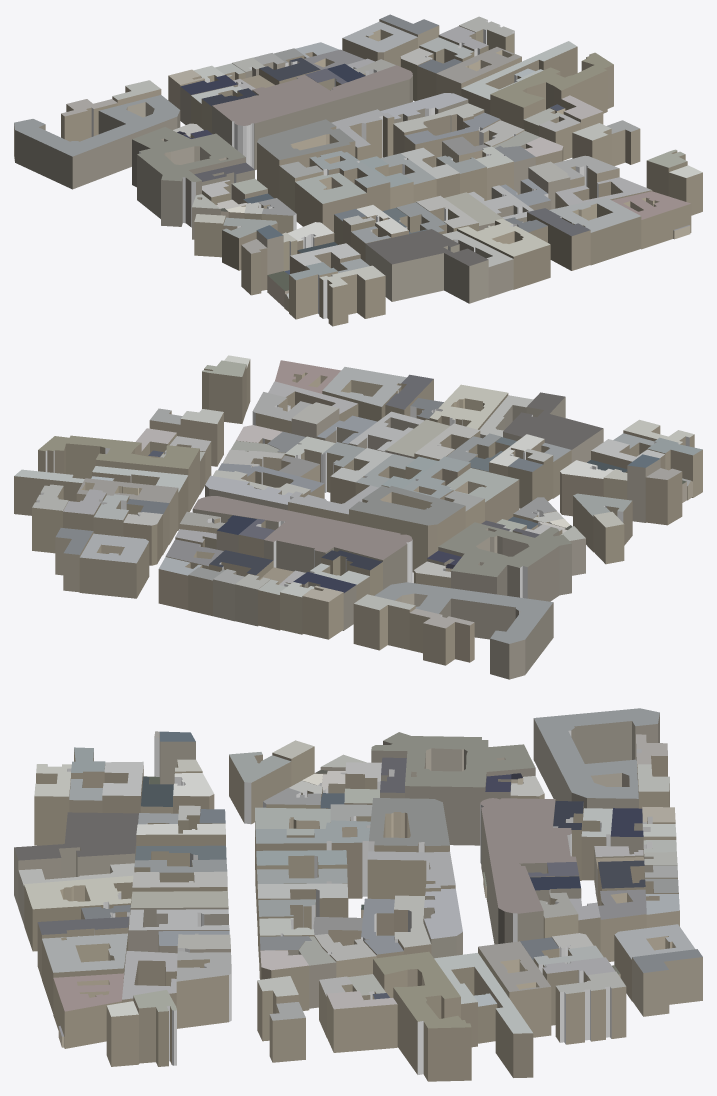
3 views of the same model, one above another, from view 1: azimuth 30°, elevation 25°; view 2: azimuth 150°, elevation 25°; view 3: azimuth 270°, elevation 25° (orthographic). The views are drawn at different scales.
Visible parts, largest first — view 1: tuile; view 2: tuile; view 3: tuile.
Part boxes in pixels (<box>): tuile: <box>14,14,702,326</box>; tuile: <box>14,355,702,679</box>; tuile: <box>14,708,702,1081</box>.
Size of the model in its own units: 305 by 34.2 by 277.
